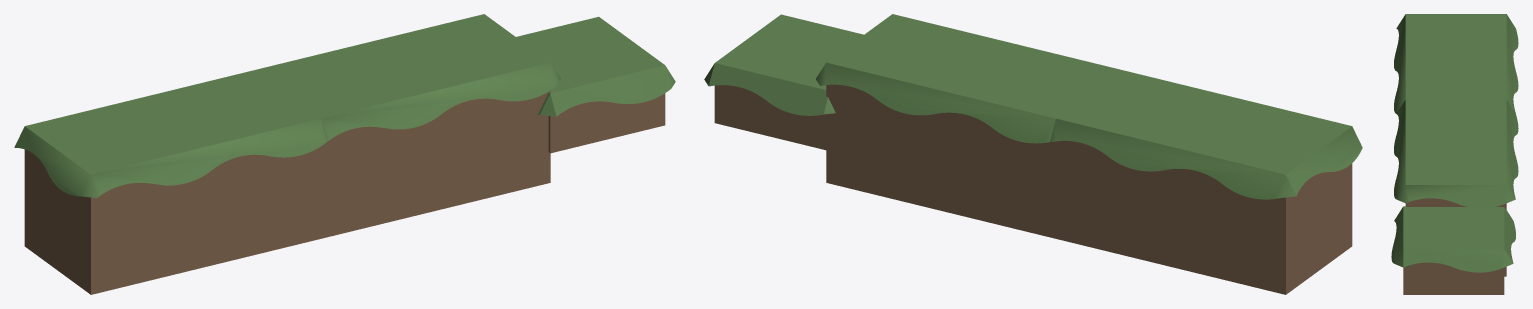
The model's file is wallgroup01_2.fbx.
3 views of the same model, side by side, from view 1: azimuth 30°, elevation 25°; view 2: azimuth 150°, elevation 25°; view 3: azimuth 270°, elevation 25° (orthographic). The views are drawn at different scales.
Visible parts, largest first — view 1: blockSnowLong.008, blockSnowHalf.009; view 2: blockSnowLong.008, blockSnowHalf.009; view 3: blockSnowLong.008, blockSnowHalf.009.
Boxes of the visible parts, x1,y1,x2,y2 form: blockSnowLong.008: [14, 14, 560, 294]; blockSnowHalf.009: [516, 16, 675, 153]; blockSnowLong.008: [816, 14, 1362, 294]; blockSnowHalf.009: [704, 14, 863, 150]; blockSnowLong.008: [1394, 14, 1518, 276]; blockSnowHalf.009: [1391, 206, 1515, 294].
Bounding box in the file's own units: 5.22 × 1 × 1.26.
